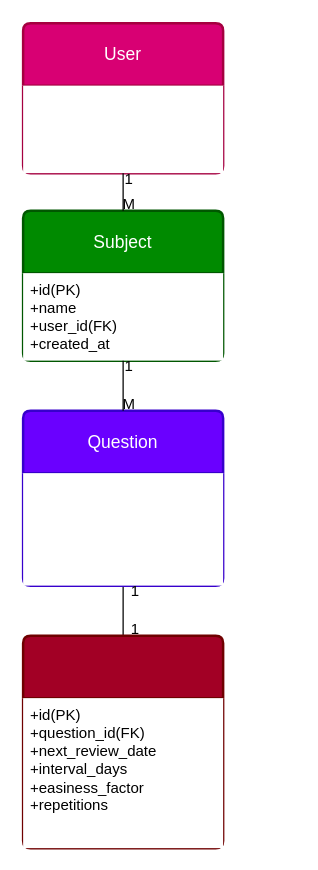
The diagram is 318 pixels wide and 870 high, and some of its shapes have lost their labels. Each missing label, with the box of its shape:
+id(PK) +subject_id(FK) +text +answer +created_at: (22, 472, 222, 585)
+id(PK) +username +password +email: (22, 85, 222, 172)
RepetitionPlan: (21, 634, 224, 849)
